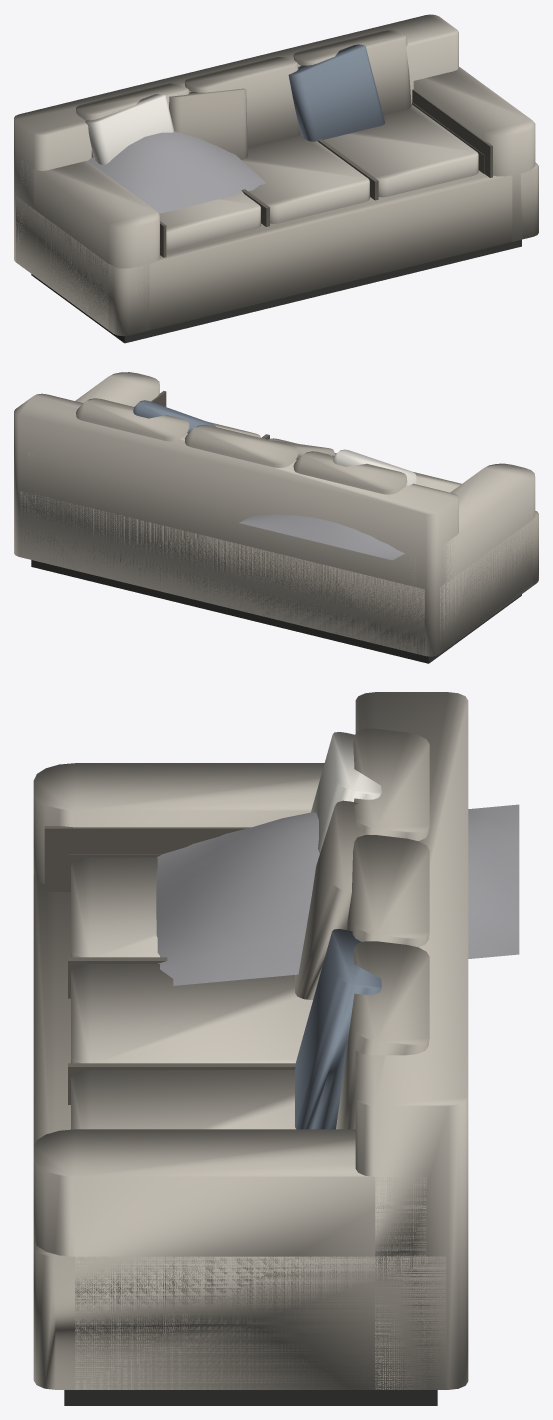
File: sofa_w.glb
The picture shows the model from 3 angles, top to bottom: view 1: azimuth 30°, elevation 25°; view 2: azimuth 150°, elevation 25°; view 3: azimuth 270°, elevation 25°; orthographic projection. The views are drawn at different scales.
Parts seen in each view (by area): view 1: root; view 2: root; view 3: root.
Boxes of the visible parts, box(x1,y1,x2,y2) form: root: box(14, 14, 538, 343); root: box(14, 372, 538, 663); root: box(33, 692, 519, 1405).
Size of the model in its own units: 2.44 by 0.9356 by 1.21.
